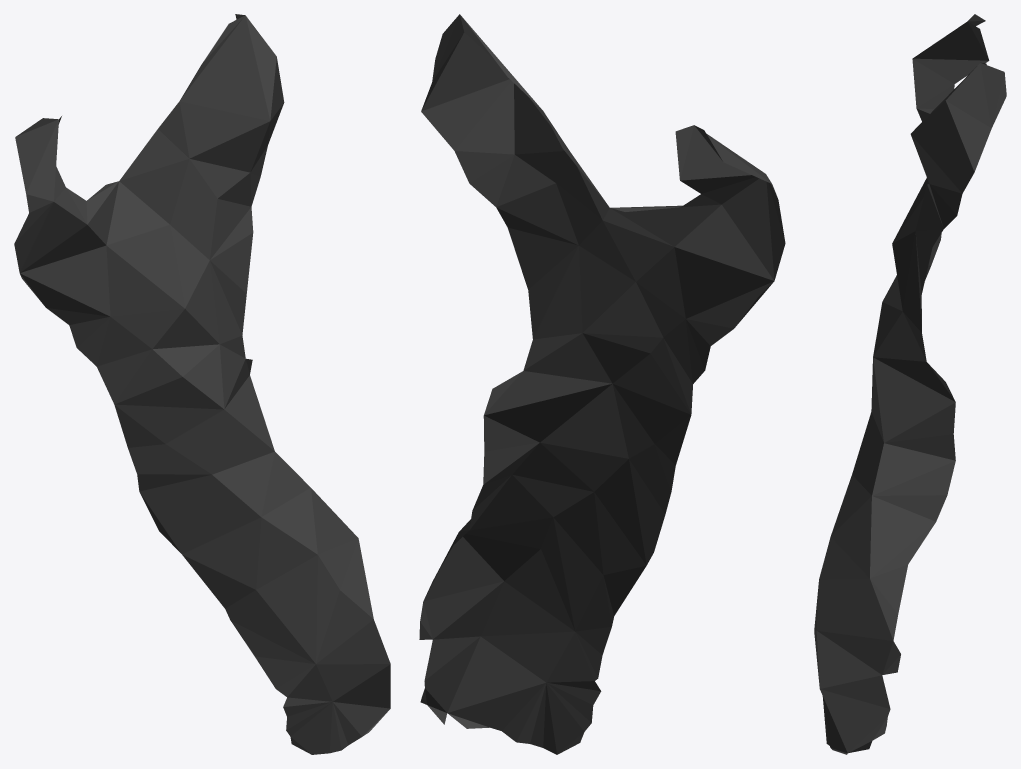
Rendered from A_mesenteric_cranial_A_mesenteric_cranial.glb.
3 renders of one model, left to right at view 1: azimuth 30°, elevation 25°; view 2: azimuth 150°, elevation 25°; view 3: azimuth 270°, elevation 25°, orthographic. The views are drawn at different scales.
Parts seen in each view (by area): view 1: A_mesenteric_cranial_A_mesenteric_cranial; view 2: A_mesenteric_cranial_A_mesenteric_cranial; view 3: A_mesenteric_cranial_A_mesenteric_cranial.
Part boxes in pixels (x1,y1,x2,y2): A_mesenteric_cranial_A_mesenteric_cranial: [14, 14, 390, 754]; A_mesenteric_cranial_A_mesenteric_cranial: [419, 14, 785, 754]; A_mesenteric_cranial_A_mesenteric_cranial: [814, 14, 1006, 754].
Size of the model in its own units: 0.0088 by 0.017 by 0.00442.
1 material, 1 textured.
